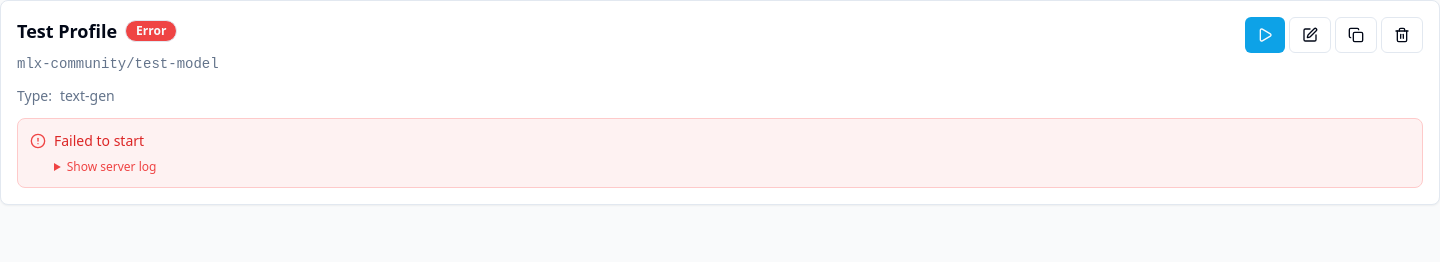
Test: ProfileCard › rendering - failed state › displays error details in collapsible section
Click the heading "Show server log" at (112, 166), box [67, 158, 156, 175]
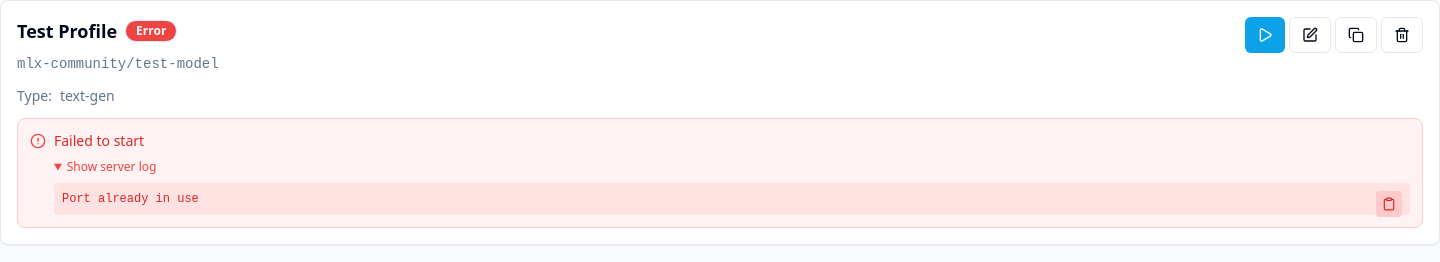
Check: the text "Port already in use" is shown, box [54, 183, 1410, 215]
